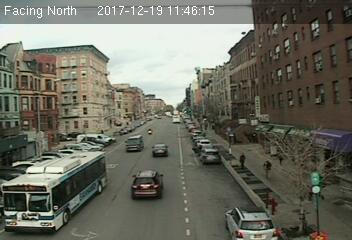bus: (3, 149, 107, 233)
car: (223, 204, 276, 240), (131, 171, 166, 201), (125, 135, 145, 151), (201, 149, 221, 164), (152, 142, 169, 157)
pedestrian: (262, 159, 272, 183), (238, 152, 247, 172)
